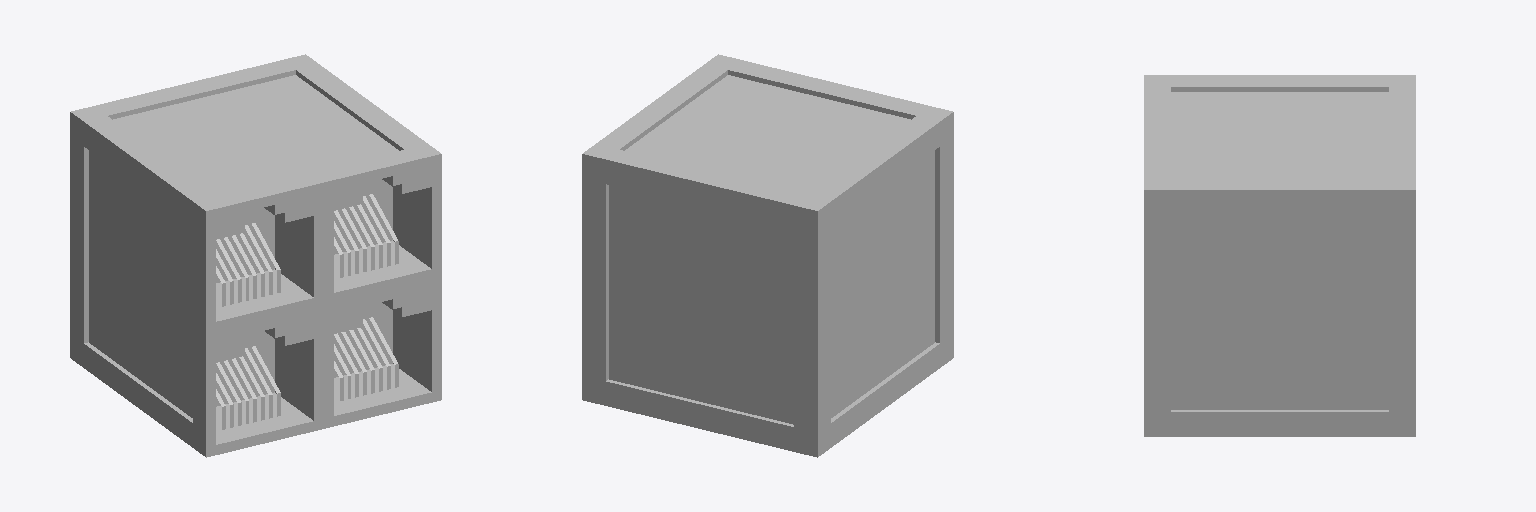
The model's file is network_router.obj.
3 renders of one model, left to right at view 1: azimuth 30°, elevation 25°; view 2: azimuth 150°, elevation 25°; view 3: azimuth 270°, elevation 25°, orthographic.
Parts seen in each view (by area): view 1: Cube_Cube.001; view 2: Cube_Cube.001; view 3: Cube_Cube.001.
Part boxes in pixels (bbox=[...]): Cube_Cube.001: bbox=[70, 54, 441, 457]; Cube_Cube.001: bbox=[582, 54, 953, 457]; Cube_Cube.001: bbox=[1144, 75, 1415, 436].
Size of the model in its own units: 2 by 2 by 2.